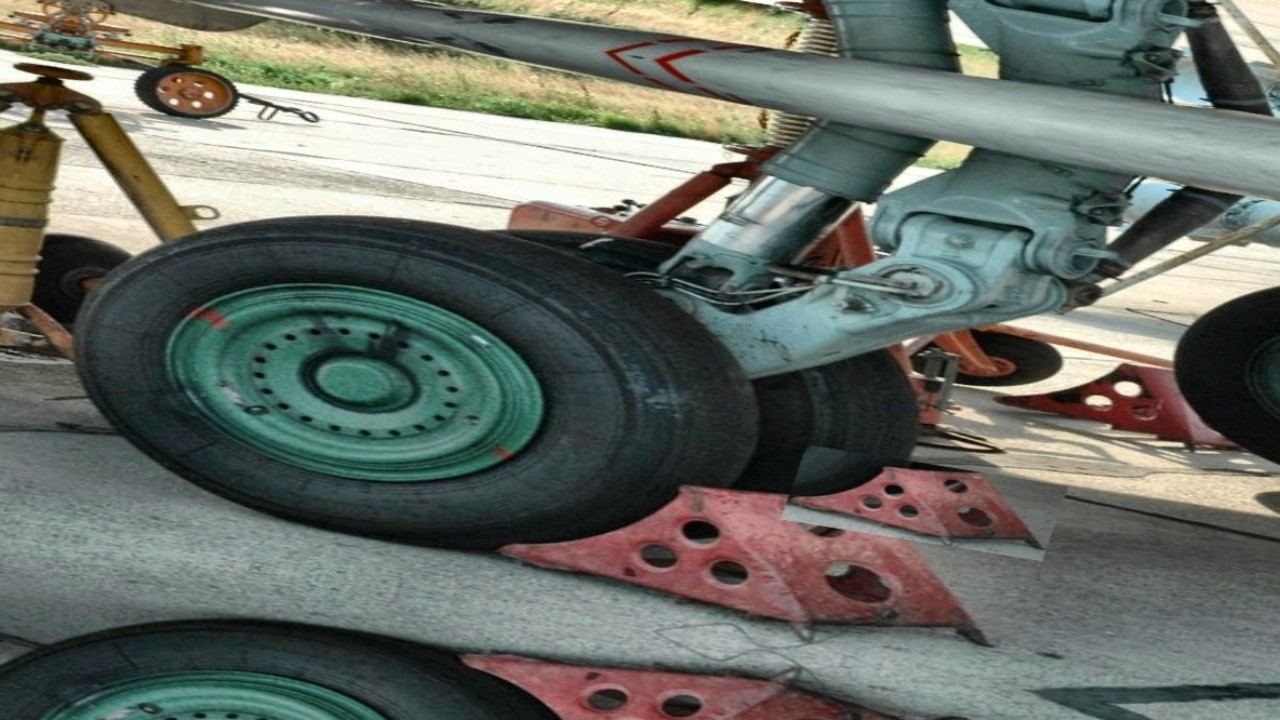chock: (481, 443, 1042, 670), (419, 618, 979, 720), (781, 445, 1069, 561)
wheel: (10, 171, 815, 591), (1140, 244, 1280, 512)
